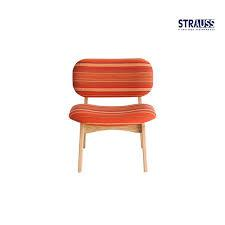chair: (64, 54, 171, 180)
